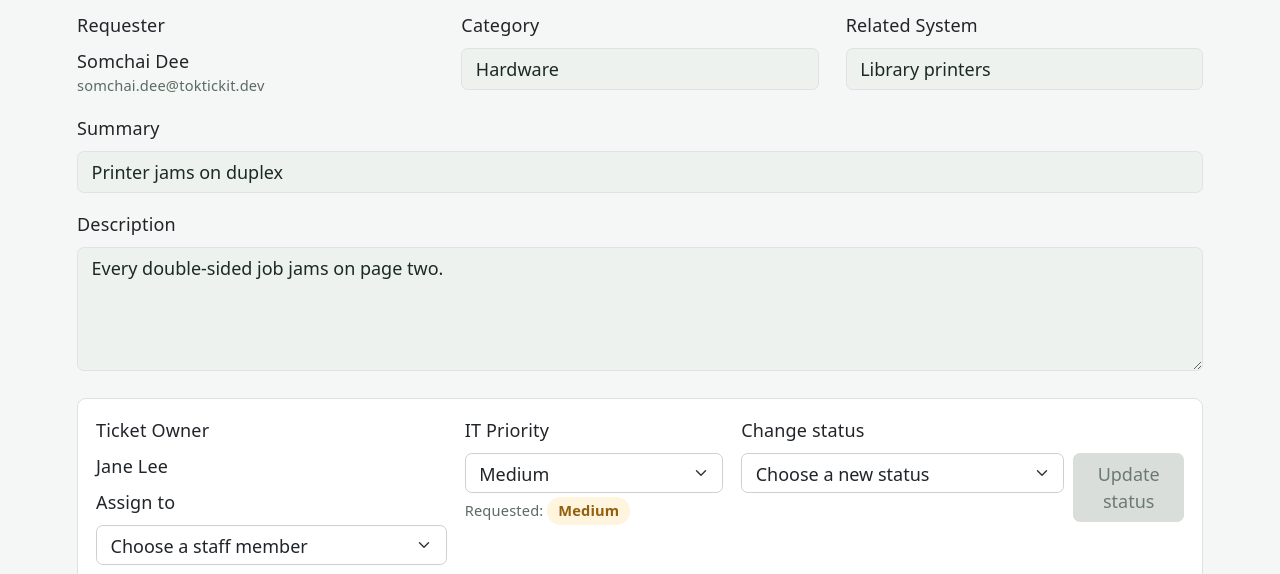
Test case: StaffTicketDetail › ownership and IT Priority › reassigns to the chosen IT Staff member
The width and height of the screenshot is (1280, 574).
Select "Wiriya Charoen" in the dropdown labelled "Assign to" at (271, 545), box [96,525,447,565]
(page scrolled)
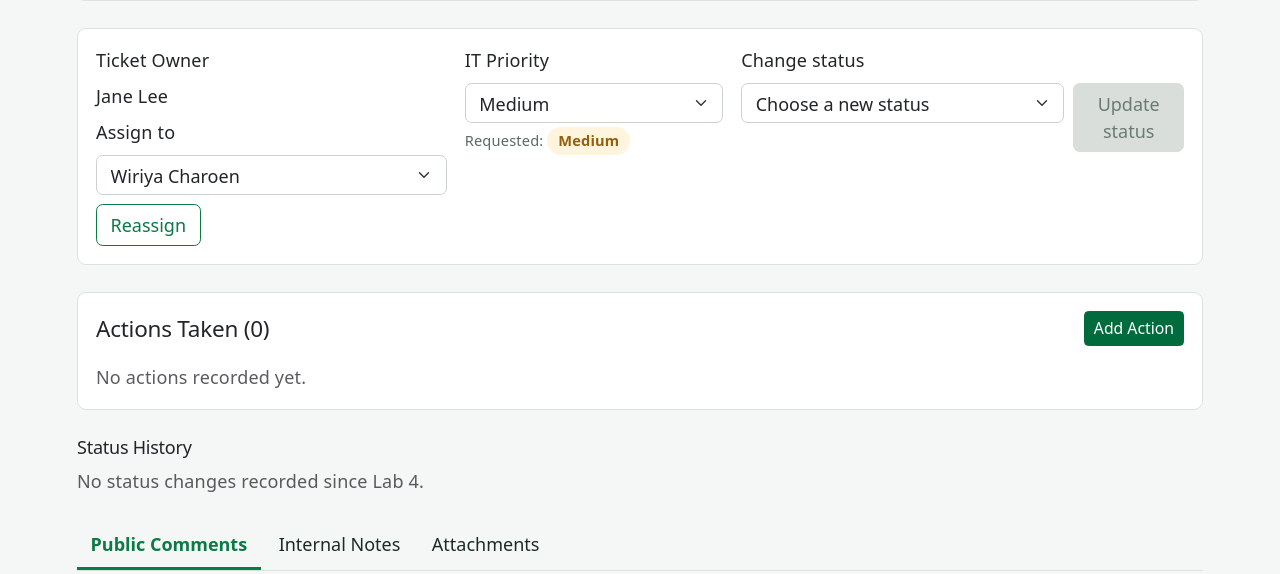
Click the button "Reassign".
click(148, 225)  # box [96,204,200,246]
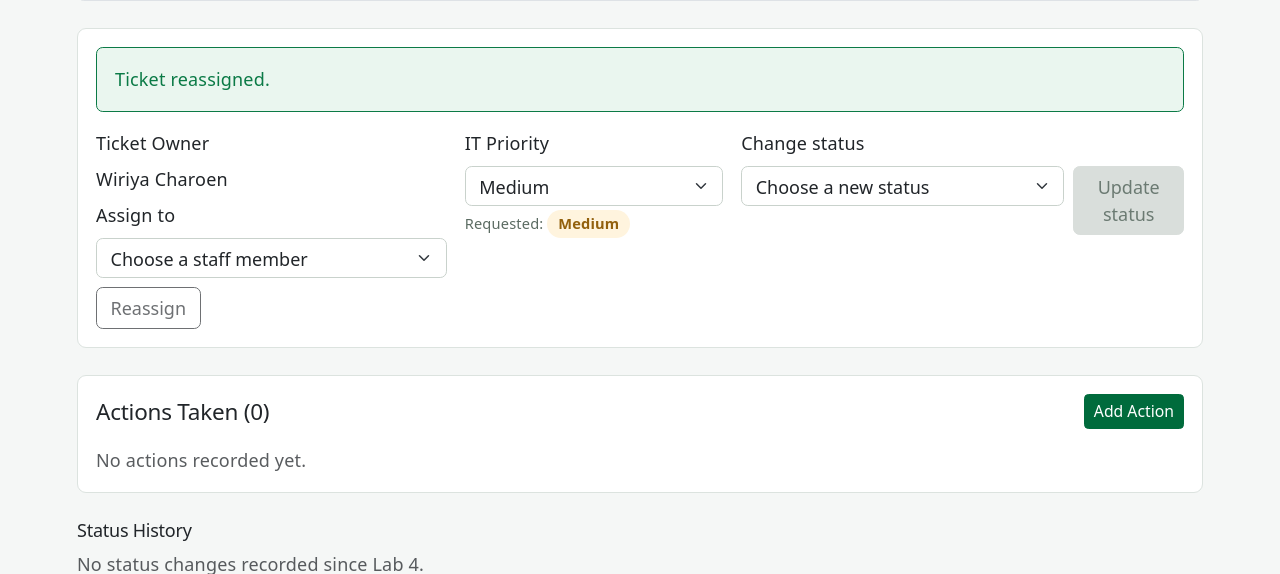
Expected: the message shows "reassigned", [115,67,270,91]
